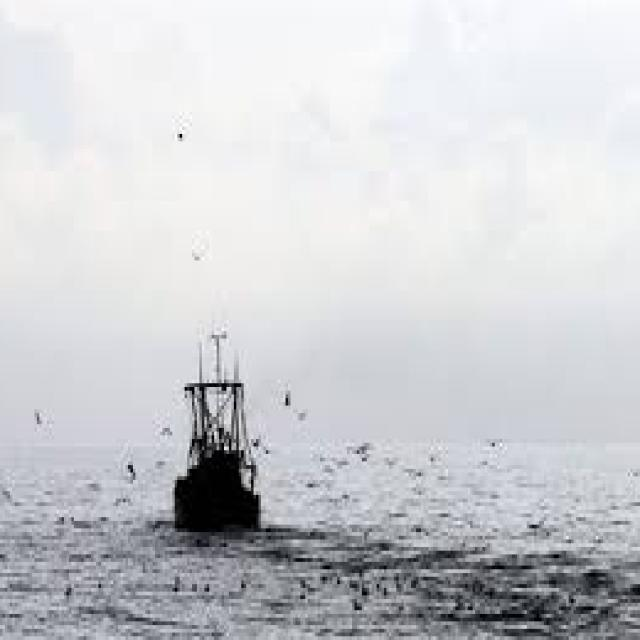fishing boat: (170, 327, 270, 550)
